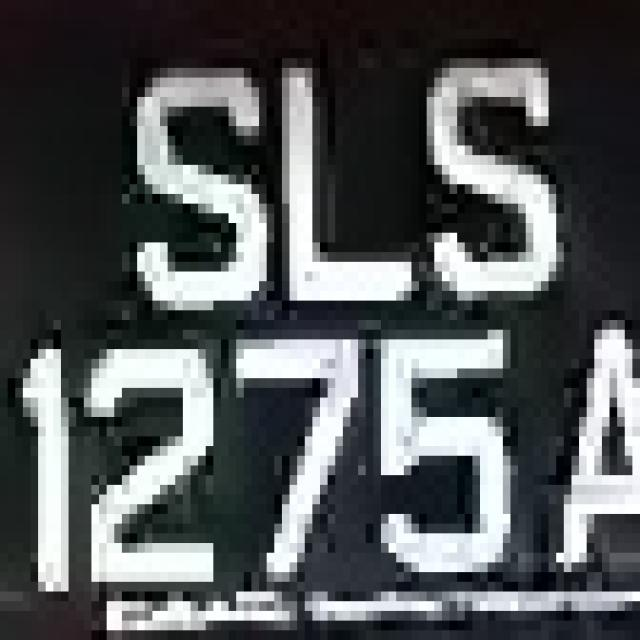1: (15, 301, 76, 630)
2: (76, 301, 221, 601)
5: (373, 320, 526, 562)
7: (205, 291, 388, 611)
A: (510, 310, 640, 621)
L: (252, 29, 426, 330)
S: (396, 39, 579, 310), (114, 29, 274, 330)
